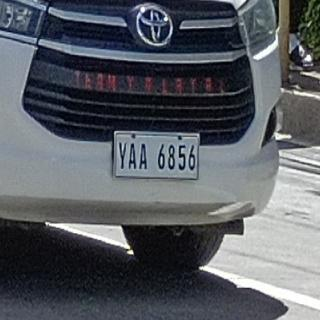license: (115, 133, 199, 180)
